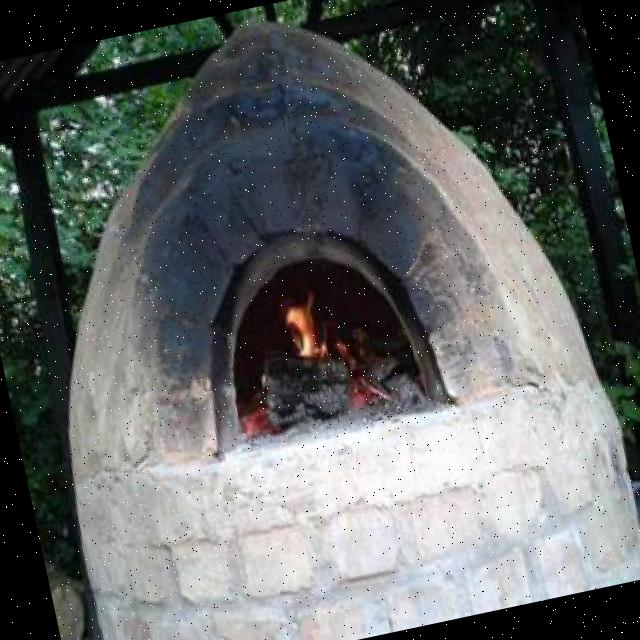fire: (272, 288, 352, 384)
